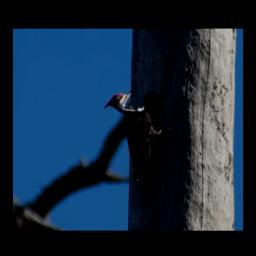Woodpecker: (104, 88, 175, 212)
